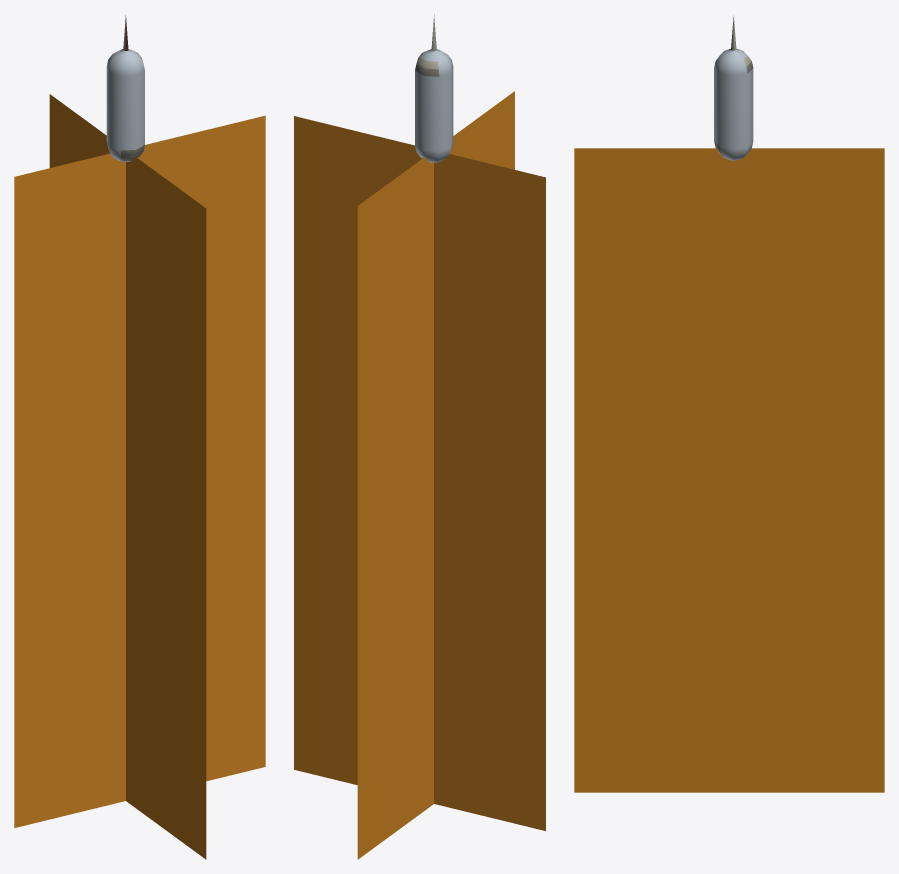
File: itch_assetquest_pond_cattail_2.glb
3 renders of one model, left to right at view 1: azimuth 30°, elevation 25°; view 2: azimuth 150°, elevation 25°; view 3: azimuth 270°, elevation 25°, orthographic.
Parts seen in each view (by area): view 1: Cat_Tail_2; view 2: Cat_Tail_2; view 3: Cat_Tail_2.
Part boxes in pixels (bbox=[...]): Cat_Tail_2: bbox=[14, 15, 265, 859]; Cat_Tail_2: bbox=[294, 14, 545, 859]; Cat_Tail_2: bbox=[574, 15, 884, 792].
Size of the model in its own units: 0.6176 by 1.85 by 0.6683.
